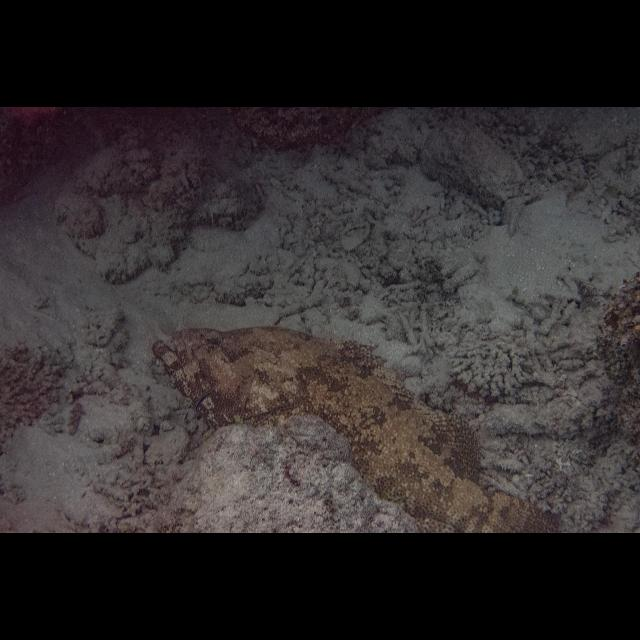Groupers: (146, 324, 564, 534)
